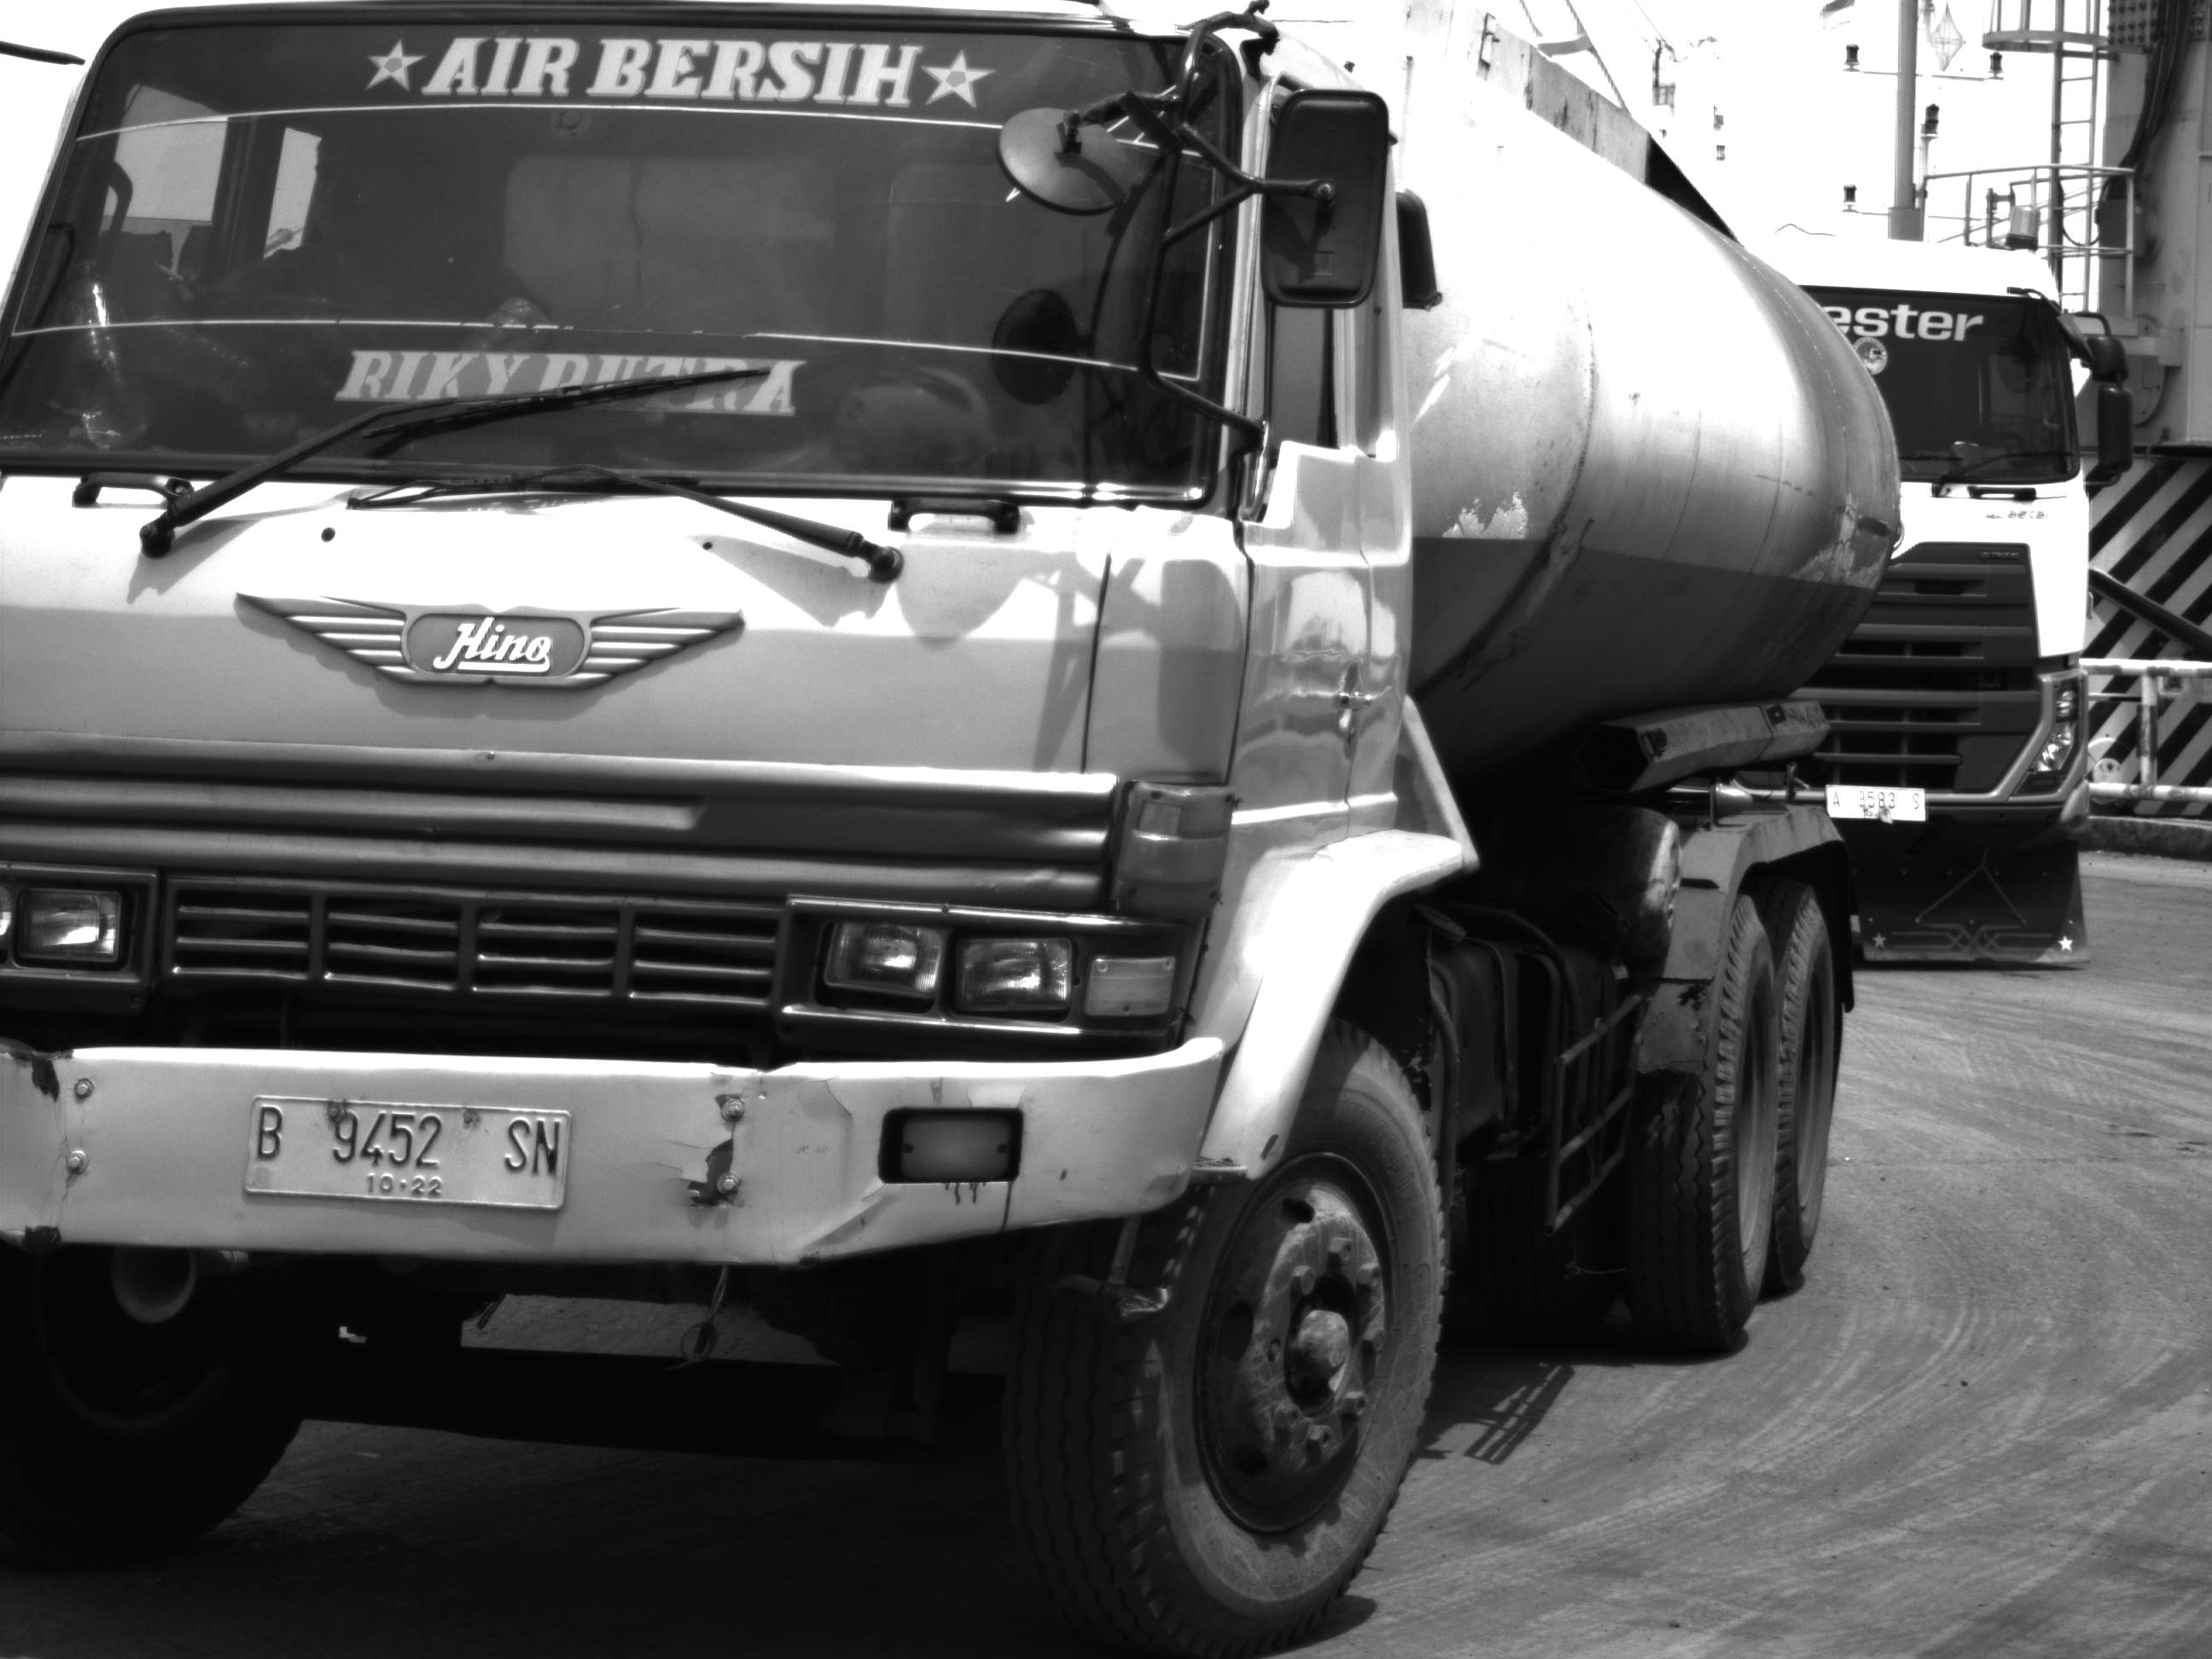truck: (0, 0, 1916, 1652)
